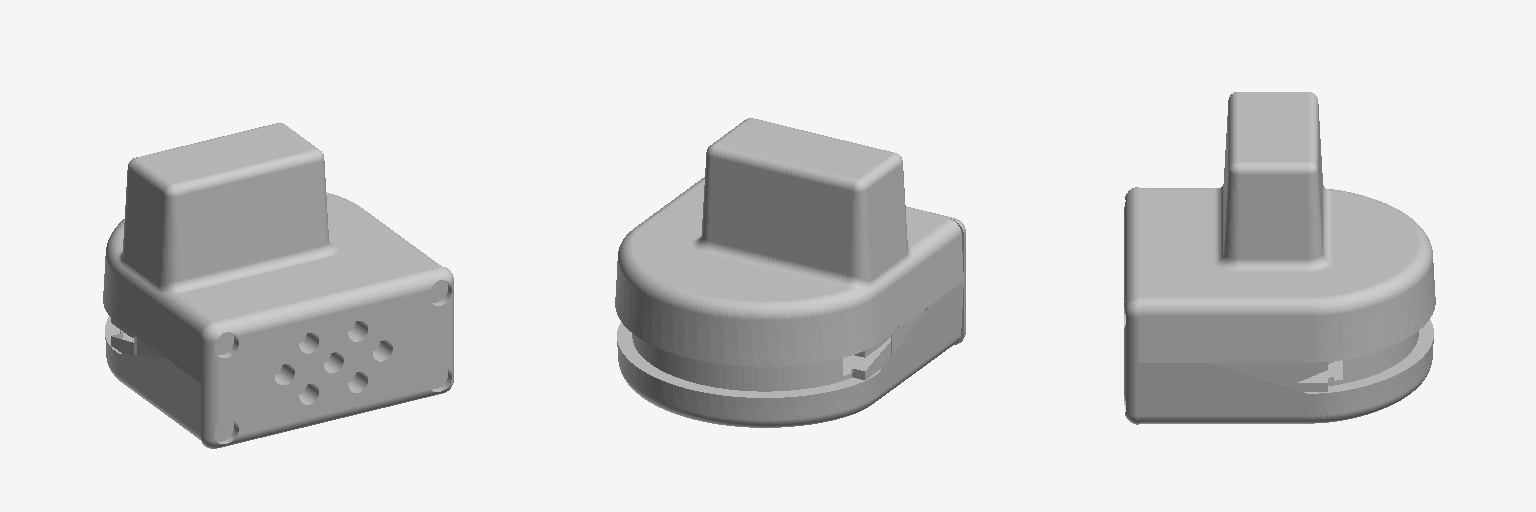
File: gripper_body_big.obj
3 views of the same model, side by side, from view 1: azimuth 30°, elevation 25°; view 2: azimuth 150°, elevation 25°; view 3: azimuth 270°, elevation 25° (orthographic).
Visible parts, largest first — view 1: Mesh1 Gripper_body1 Model; view 2: Mesh1 Gripper_body1 Model; view 3: Mesh1 Gripper_body1 Model.
Boxes of the visible parts, <box> form: Mesh1 Gripper_body1 Model: <box>103,123,453,448</box>; Mesh1 Gripper_body1 Model: <box>615,118,965,427</box>; Mesh1 Gripper_body1 Model: <box>1124,92,1435,424</box>.
Size of the model in its own units: 58 by 49.7 by 62.27.